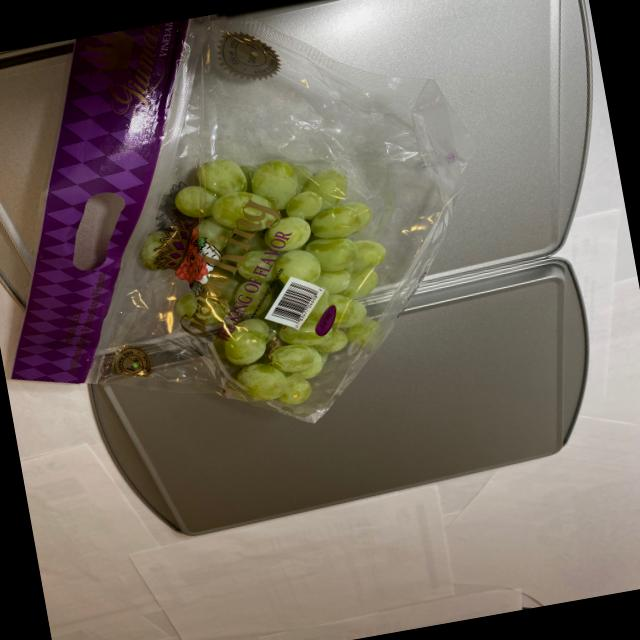grapes: (116, 127, 414, 436)
